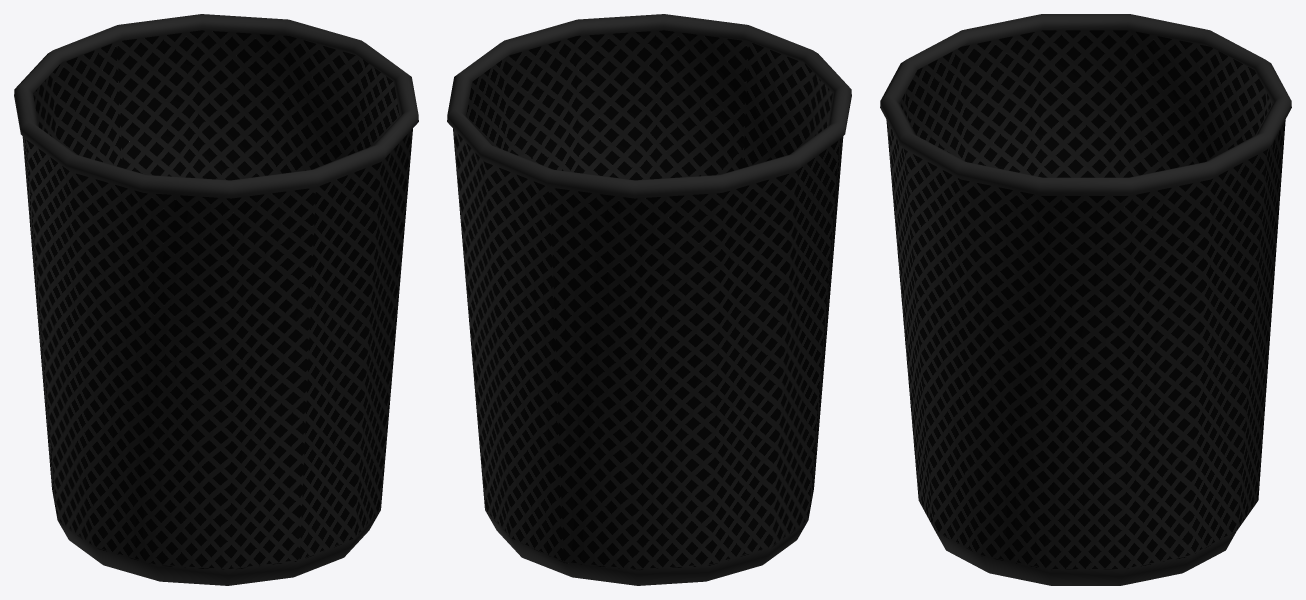
The model's file is Pencil Holder.fbx.
3 views of the same model, side by side, from view 1: azimuth 30°, elevation 25°; view 2: azimuth 150°, elevation 25°; view 3: azimuth 270°, elevation 25° (orthographic).
Visible parts, largest first — view 1: Pencil Holder; view 2: Pencil Holder; view 3: Pencil Holder.
Boxes of the visible parts, left/top/right/bottom form: Pencil Holder: left=14, top=14, right=418, bottom=585; Pencil Holder: left=447, top=14, right=851, bottom=585; Pencil Holder: left=880, top=14, right=1291, bottom=585.
Bounding box in the file's own units: 0.2931 × 0.3431 × 0.3006.
Materials: 1 (1 with a texture image).
